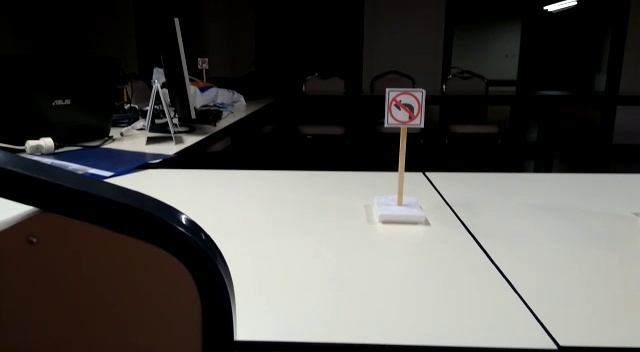sola_donulmez: (386, 89, 425, 123)
